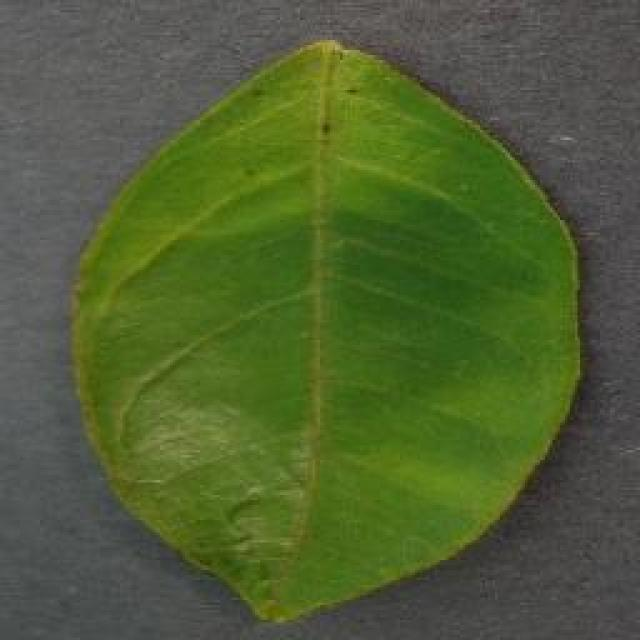Orange_Haunglongbing_Citrus_greening: (116, 119, 556, 566)
